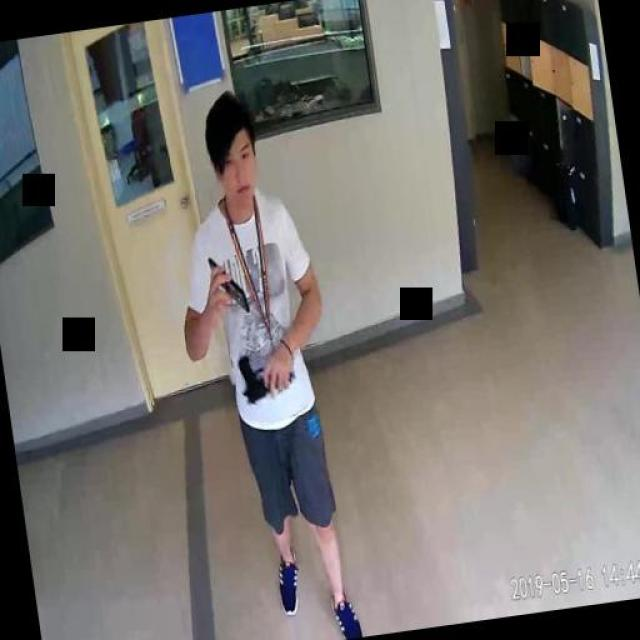gun: (234, 348, 295, 402)
